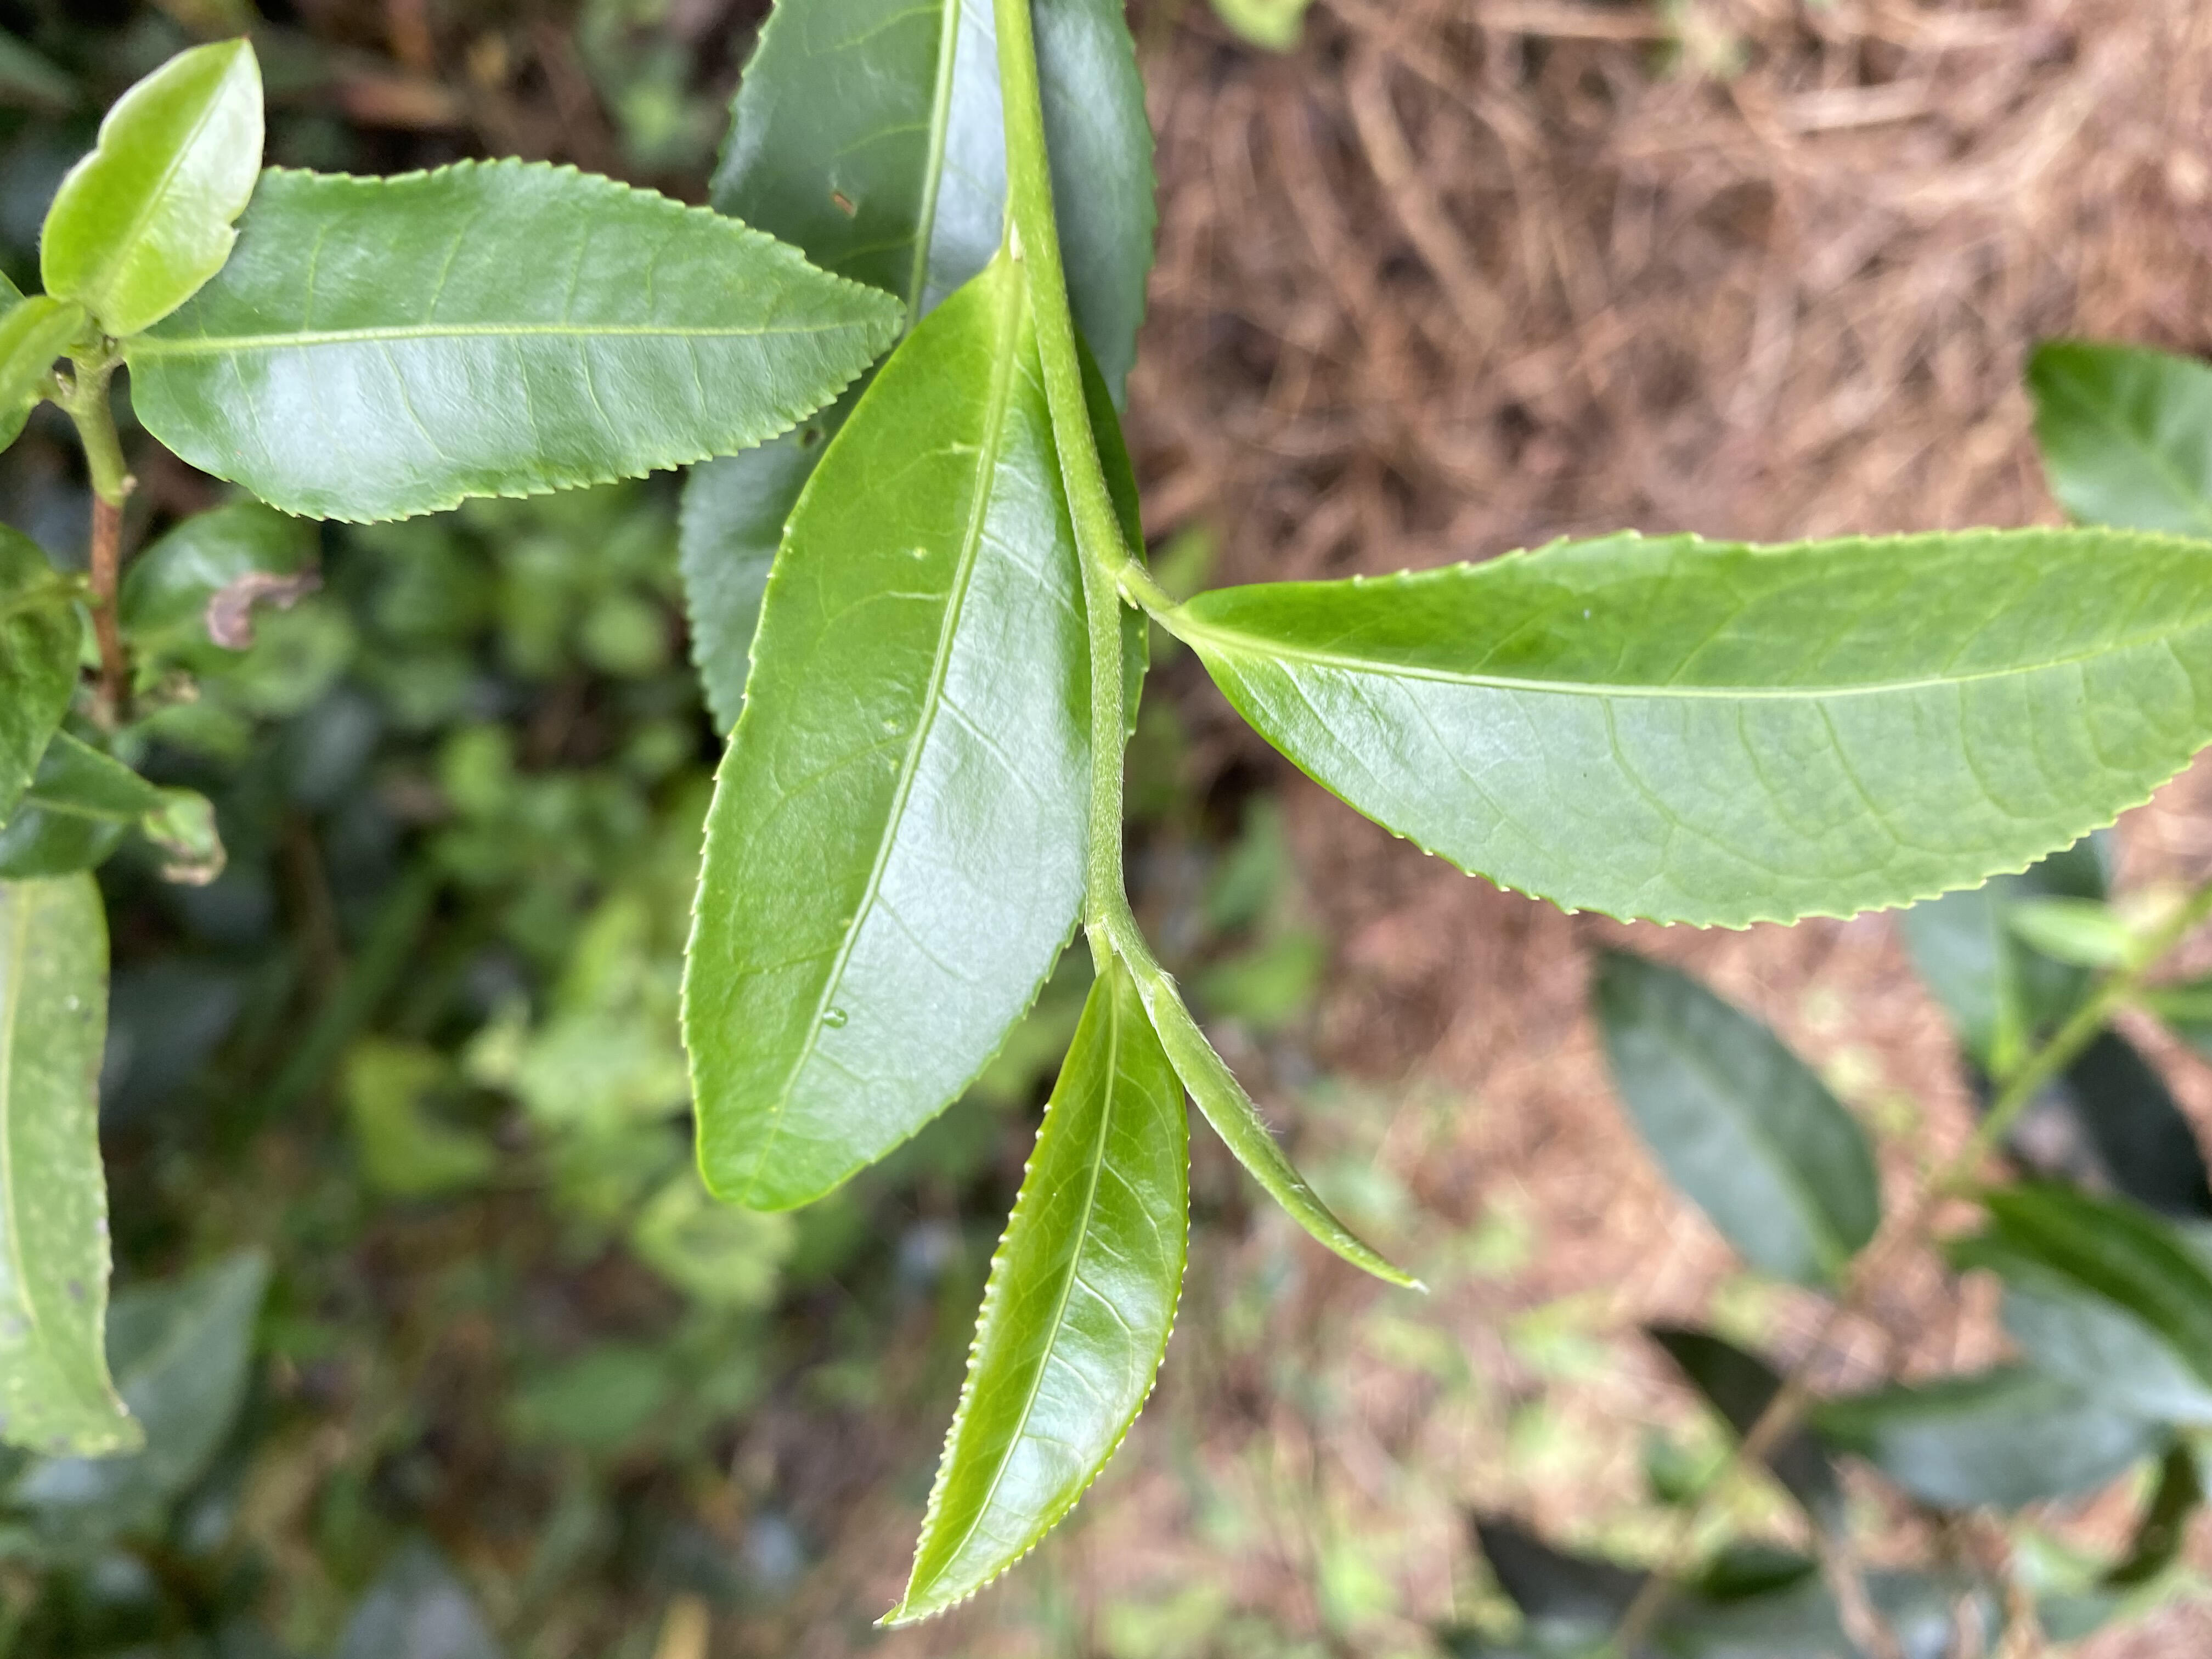healthy: (669, 258, 1151, 1213), (1179, 521, 2209, 936), (878, 965, 1197, 1624)
